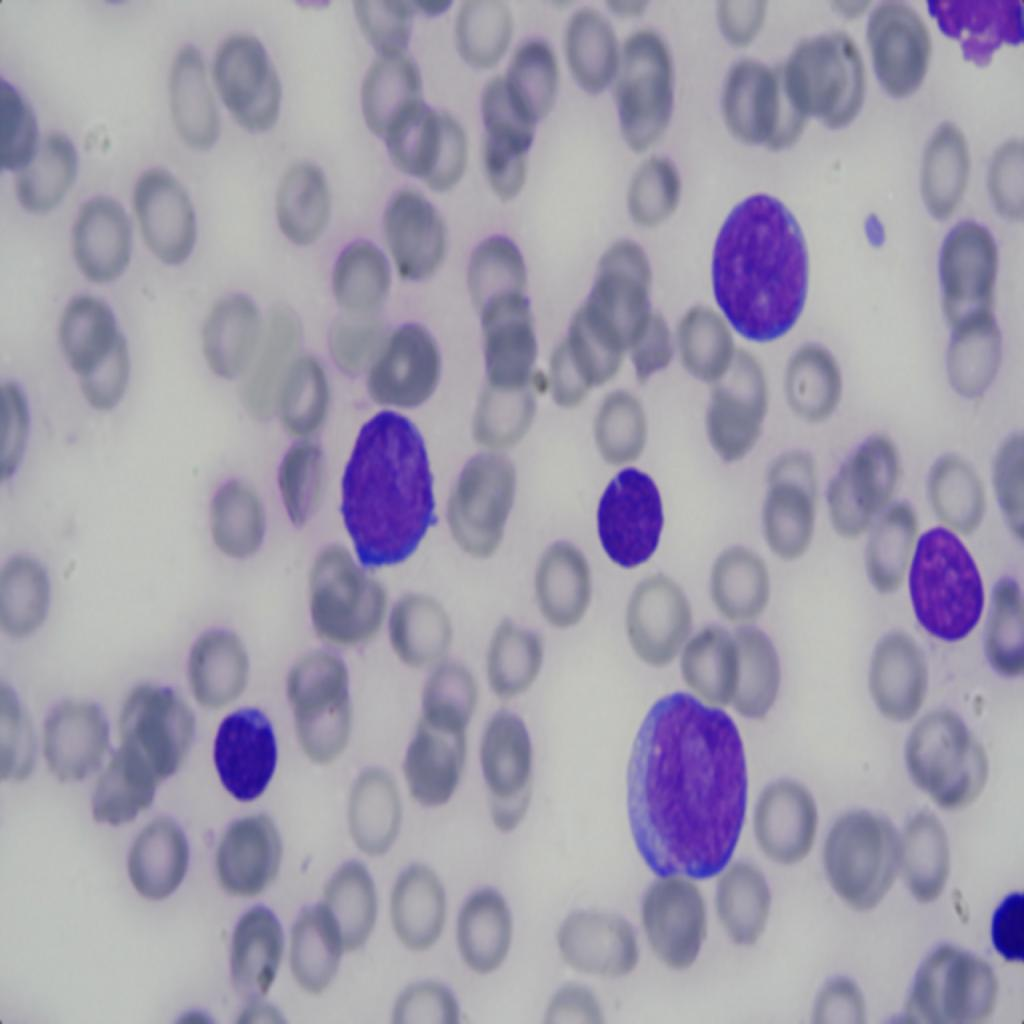Myeoblast: (614, 662, 754, 894), (326, 396, 454, 589), (711, 170, 814, 362), (582, 452, 677, 594), (902, 504, 990, 655), (196, 693, 291, 811)
Platelet: (860, 195, 889, 265)
